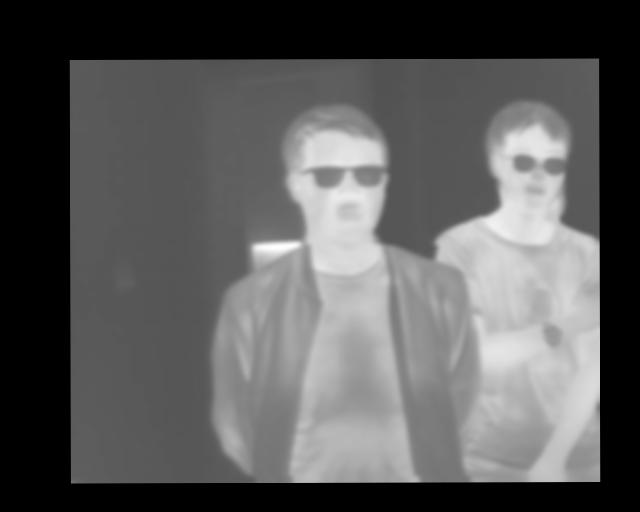face: (279, 102, 392, 244), (484, 99, 573, 209)
